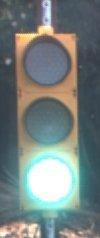Green: (4, 27, 81, 226)
